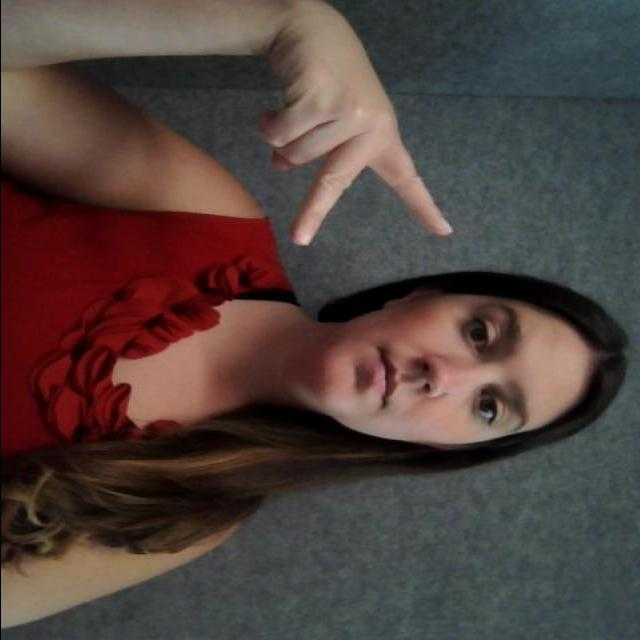Scissors: (210, 25, 453, 274)
